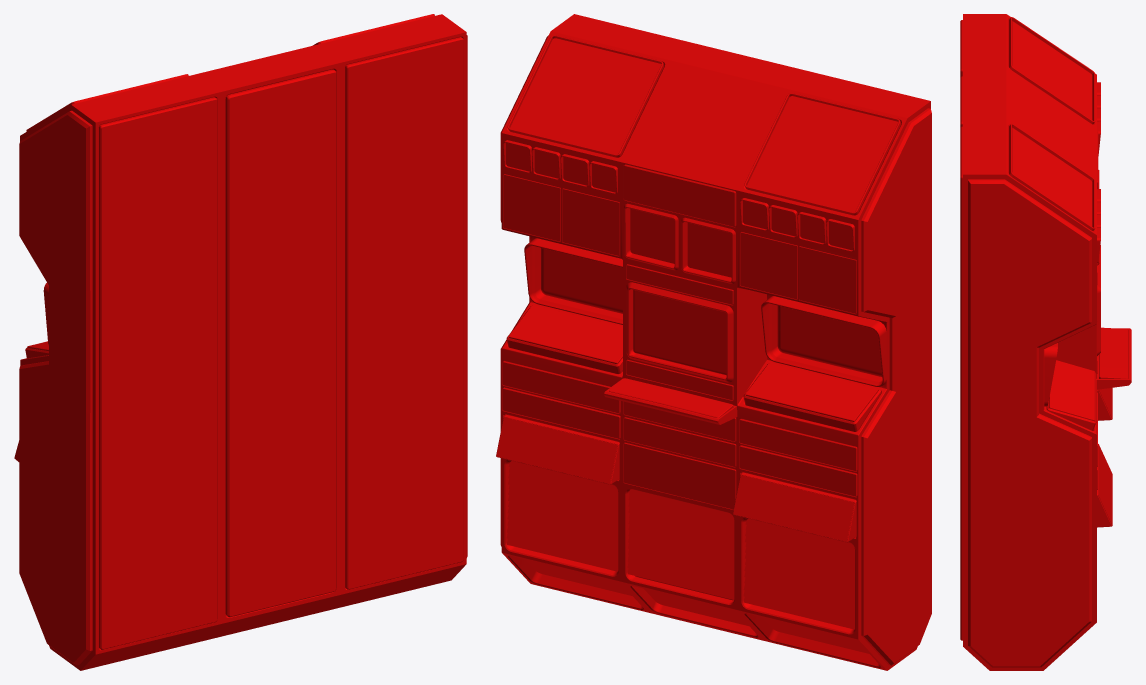
File: Terminal_10.fbx
3 views of the same model, side by side, from view 1: azimuth 30°, elevation 25°; view 2: azimuth 150°, elevation 25°; view 3: azimuth 270°, elevation 25° (orthographic). The views are drawn at different scales.
Visible parts, largest first — view 1: polySurface1278; view 2: polySurface1278; view 3: polySurface1278.
Part boxes in pixels (box(x1,y1,x2,y2)): polySurface1278: box(14, 14, 467, 670); polySurface1278: box(496, 14, 931, 670); polySurface1278: box(960, 14, 1131, 670).
Size of the model in its own units: 198 by 278 by 86.9.
